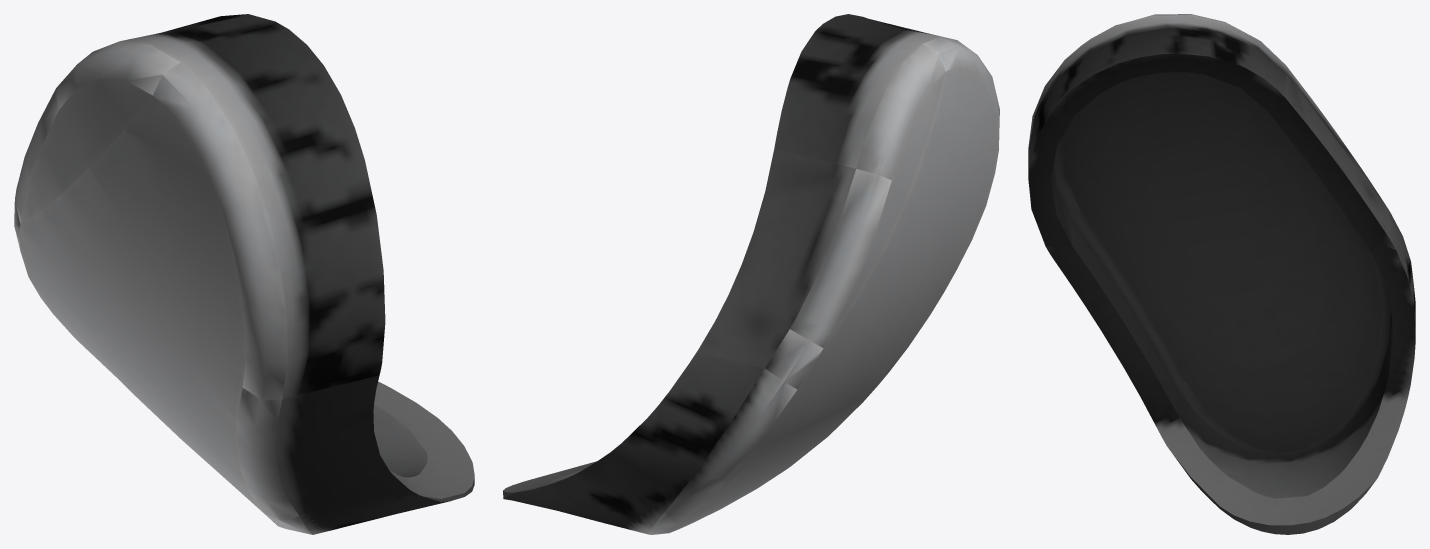
The model's file is button_grip.obj.
3 views of the same model, side by side, from view 1: azimuth 30°, elevation 25°; view 2: azimuth 150°, elevation 25°; view 3: azimuth 270°, elevation 25° (orthographic). The views are drawn at different scales.
Parts seen in each view (by area): view 1: button_grip.003; view 2: button_grip.003; view 3: button_grip.003.
Boxes of the visible parts, x1,y1,x2,y2 form: button_grip.003: (14,14,474,534); button_grip.003: (503,14,999,534); button_grip.003: (1028,14,1415,534).
Bounding box in the file's own units: 0.015 × 0.0191 × 0.0171.
Materials: 1 (1 with a texture image).
